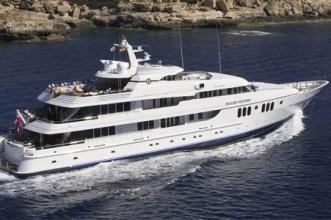yacht: (2, 21, 331, 180)
